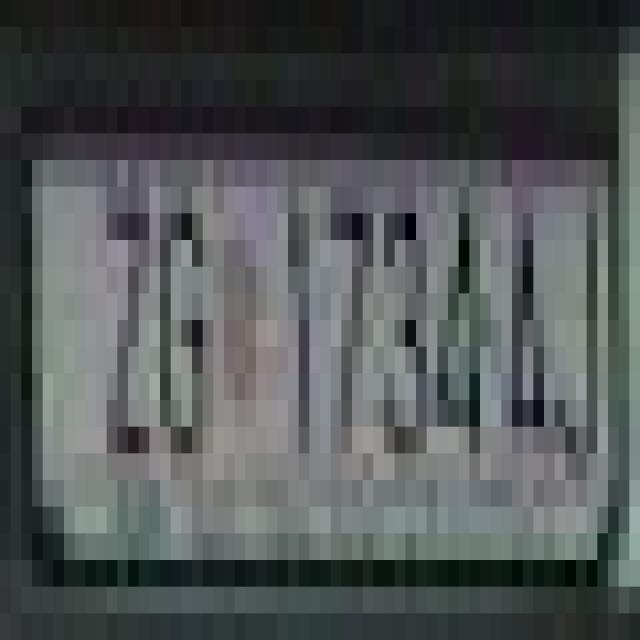1: (277, 160, 320, 453)
4: (501, 186, 544, 426), (448, 186, 480, 426)
7: (330, 186, 362, 426)
8: (373, 186, 416, 426)
G: (149, 186, 192, 426)
Z: (96, 160, 149, 453)
